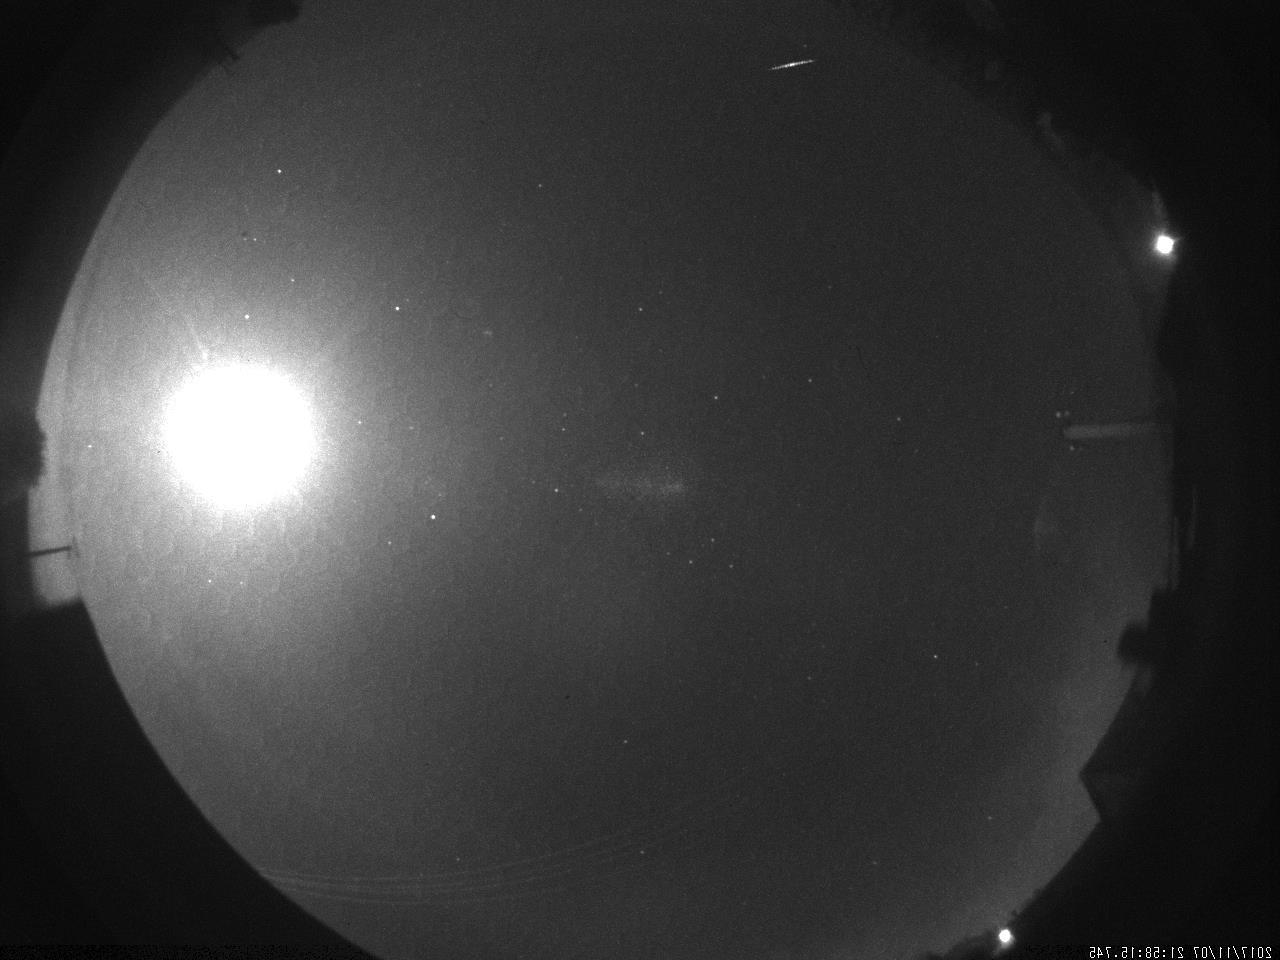meteor: (750, 47, 834, 84)
